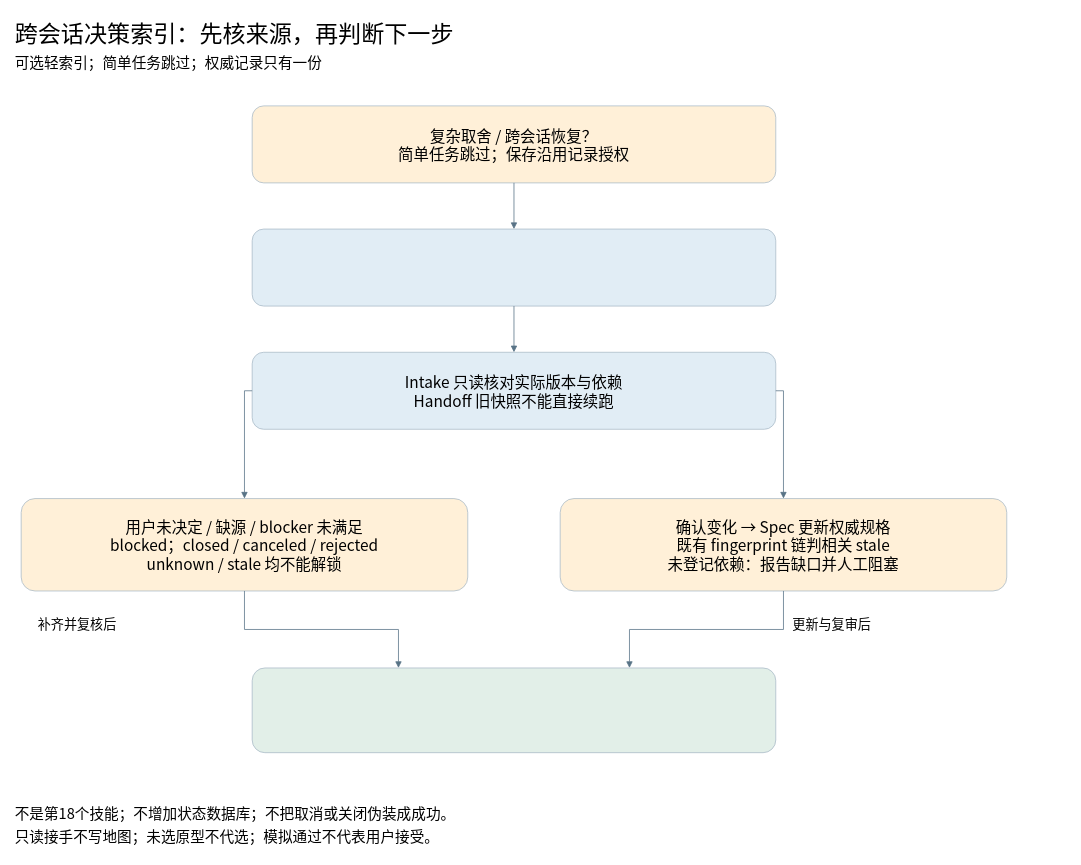
The diagram is 1081 pixels wide and 865 high, and some of its shapes have lost their labels. The shapes that lost their labels are listed below. From the top down, each one's box as (x1, y1, x2, y2) in pixels, then its label:
(251, 228, 776, 306): 原始目标 → 权威决定 → 证据 map 仅定位；Notes 不能授予执行权限
(251, 667, 776, 753): 有效证据 + 现有门槛 + 真实授权 按缺口恢复职责；不默认 issue / push 无 tracker：只读调查或串行处理
